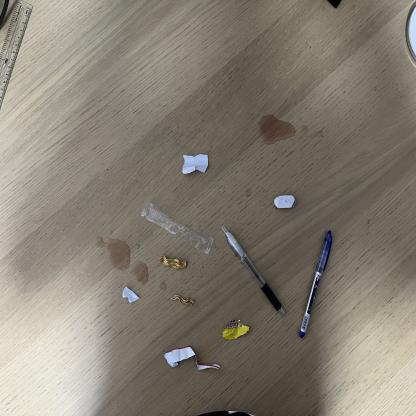dirty: (141, 203, 214, 254), (164, 346, 221, 370), (182, 153, 209, 175), (222, 319, 250, 340), (158, 255, 188, 269), (171, 295, 195, 307), (122, 287, 140, 302)
liquid: (94, 236, 130, 270), (257, 115, 296, 144), (133, 260, 149, 284), (310, 130, 323, 142), (245, 186, 253, 198), (159, 280, 167, 292), (301, 124, 307, 134), (136, 244, 140, 250), (110, 228, 114, 234)
mark: (129, 107, 132, 113), (113, 55, 116, 60), (61, 46, 63, 50), (136, 71, 138, 74), (142, 80, 143, 85)
